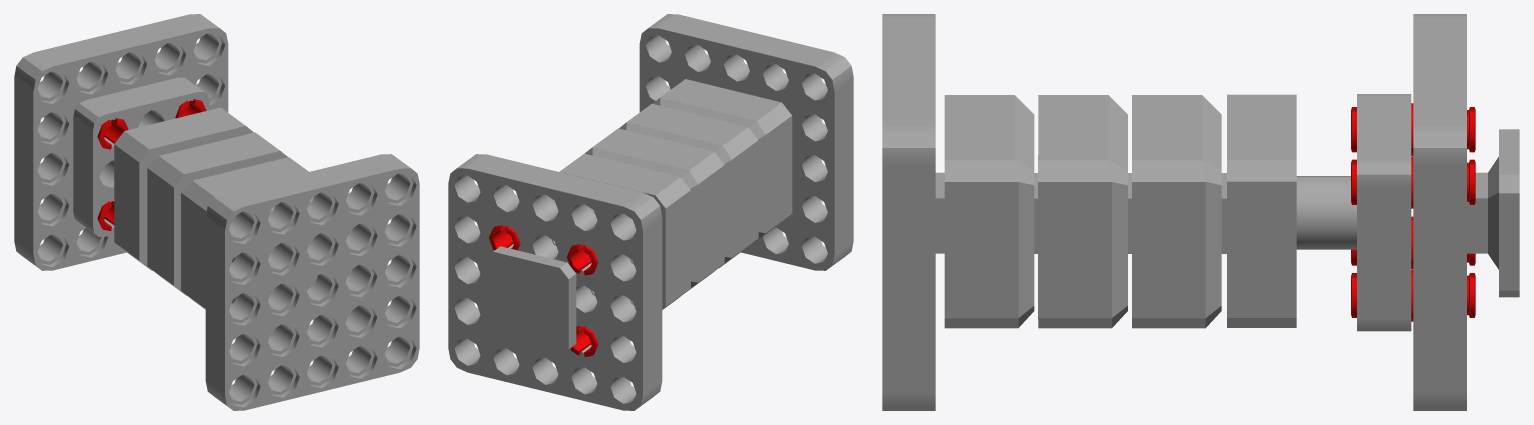
The model's file is banyunjiqiren_tool1.fbx.
The picture shows the model from 3 angles, left to right: view 1: azimuth 30°, elevation 25°; view 2: azimuth 150°, elevation 25°; view 3: azimuth 270°, elevation 25°; orthographic projection. The views are drawn at different scales.
Parts seen in each view (by area): view 1: polySurface114; view 2: polySurface114; view 3: polySurface114.
Boxes of the visible parts, x1,y1,x2,y2 form: polySurface114: (14,14,419,410); polySurface114: (448,14,853,410); polySurface114: (882,14,1519,410).
Bounding box in the file's own units: 30 × 30 × 61.23.
